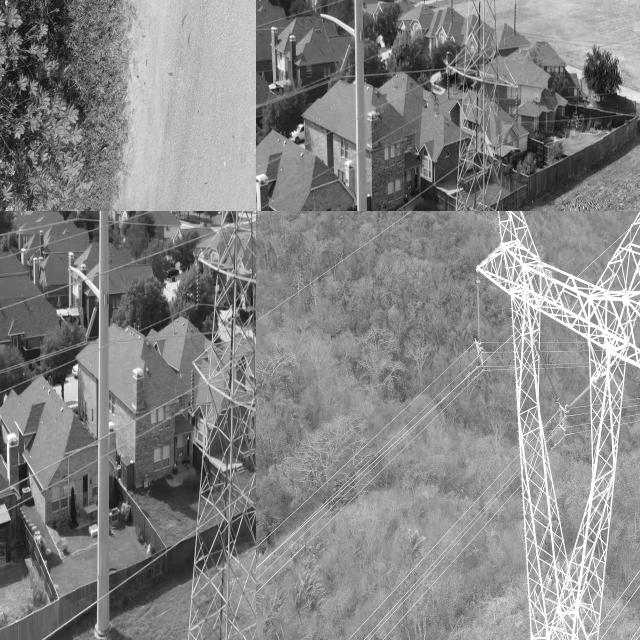杆塔: (455, 211, 640, 640), (176, 211, 256, 640), (444, 0, 521, 211)
正常电缆: (0, 213, 256, 311), (0, 378, 207, 495), (0, 403, 193, 517), (0, 302, 197, 396), (39, 526, 196, 640), (0, 211, 164, 261)
正常绝缘子: (469, 264, 487, 367), (325, 36, 342, 76), (84, 305, 98, 342), (75, 297, 87, 340), (339, 42, 353, 78), (512, 86, 521, 128), (190, 366, 196, 412), (511, 0, 518, 37), (196, 265, 202, 307), (446, 65, 451, 103), (448, 0, 455, 21)
